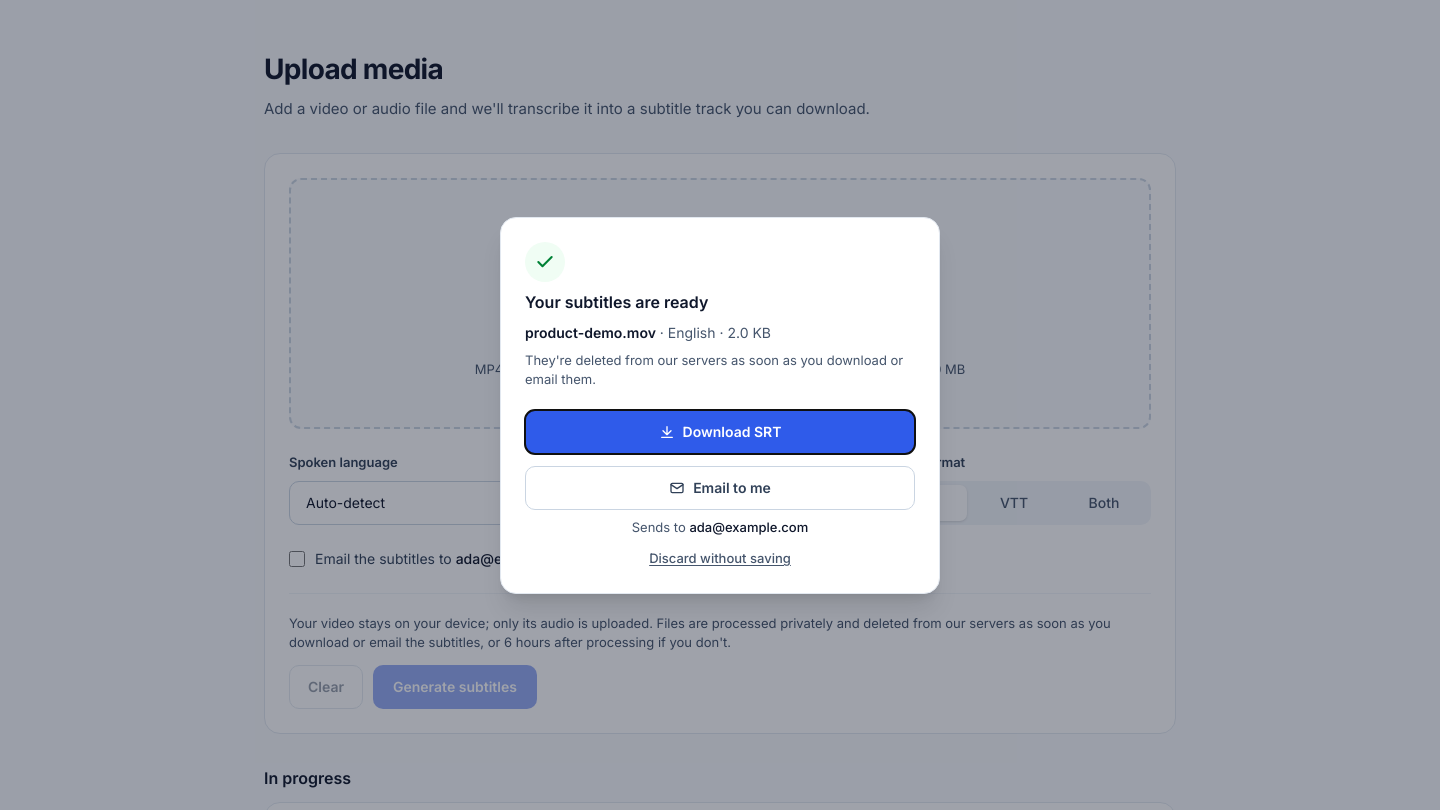
Test case: ready subtitles › stays open with the error when the download fails
Click the button "Download SRT". click: (720, 432)
box: [525,410,915,454]
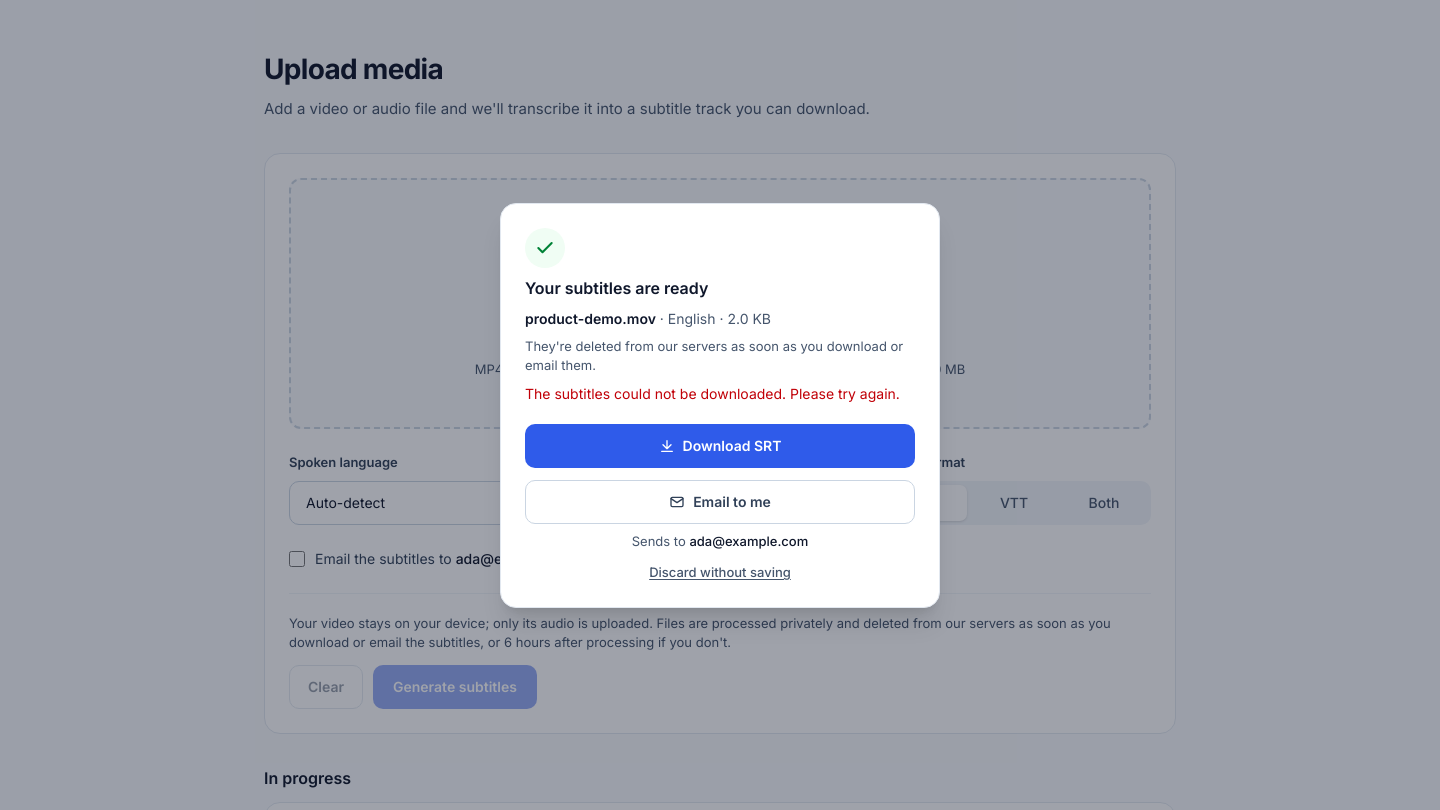
Result: the message "The subtitles could not be downloaded. Please try again." is shown at [525,384,915,404]
